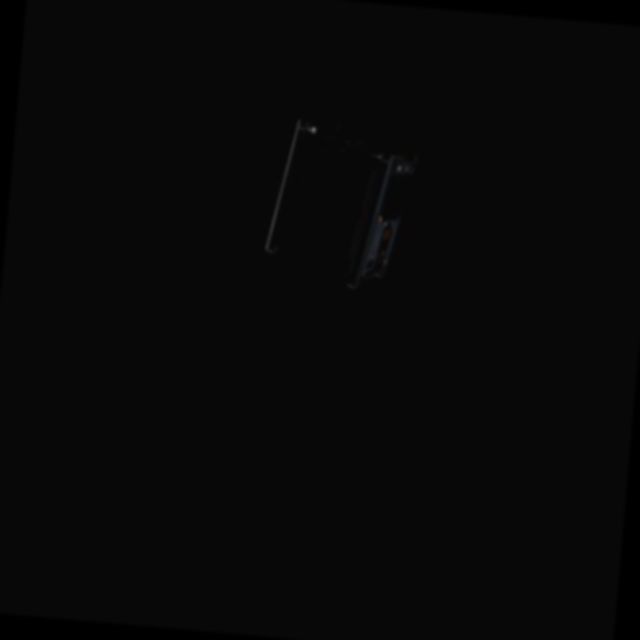medium_debris: (251, 109, 425, 326)
